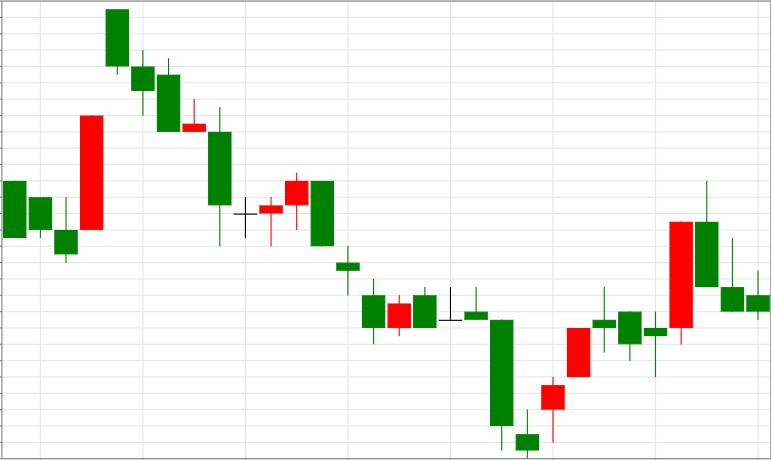evening_star_fall: (311, 181, 565, 459)
